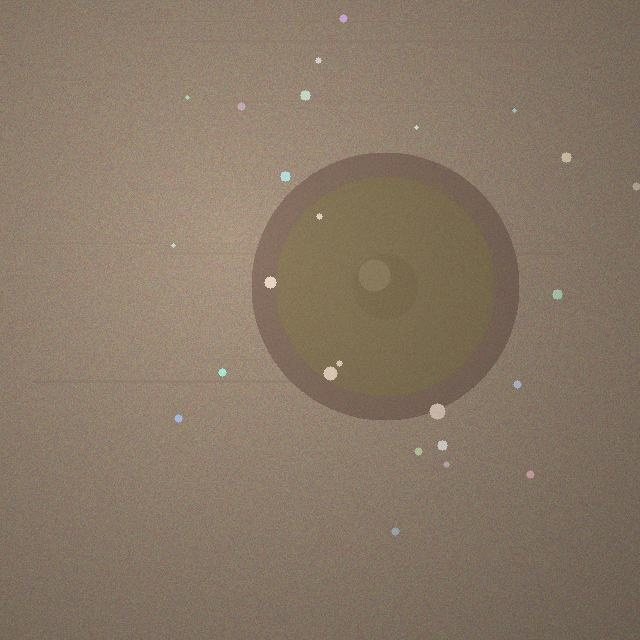overburn: (251, 152, 519, 420)
